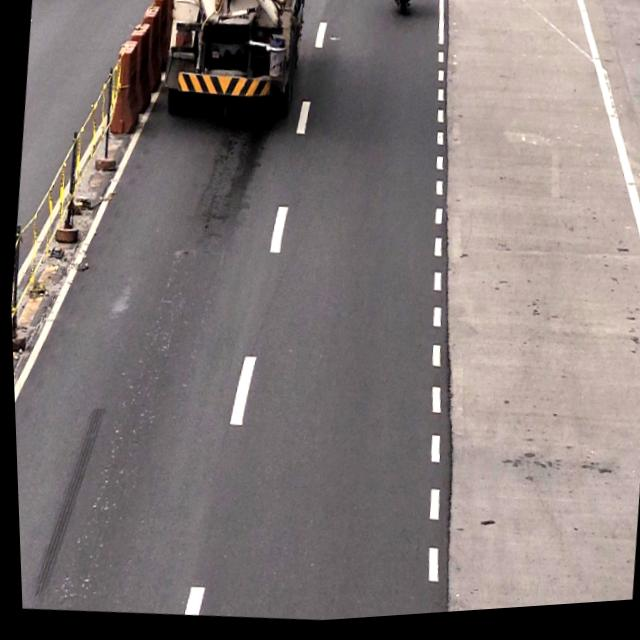Truck: (159, 0, 308, 119)
